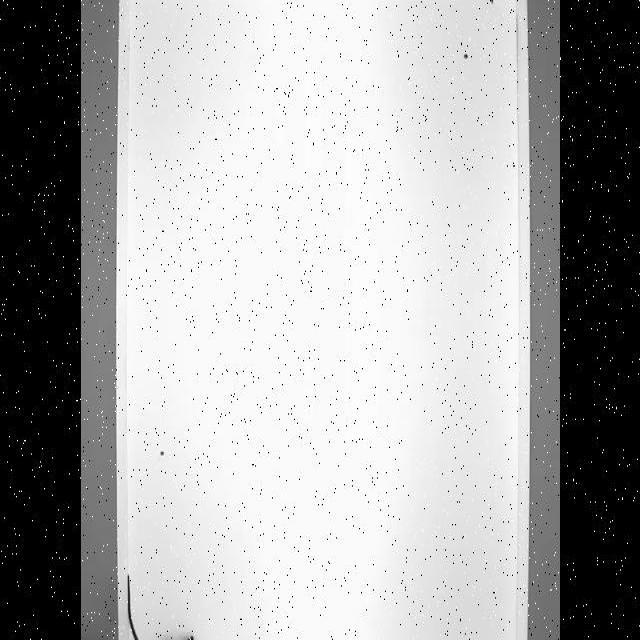rat: (125, 568, 199, 640)
